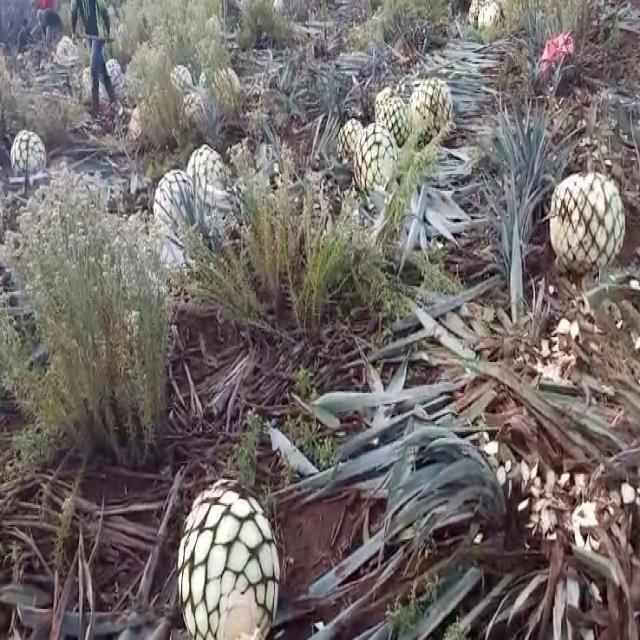agave: (172, 466, 284, 640), (545, 160, 628, 266), (352, 120, 398, 198), (148, 160, 190, 236), (406, 79, 455, 137), (372, 76, 408, 140), (8, 127, 47, 180), (185, 144, 222, 198), (334, 116, 366, 157), (168, 63, 190, 93), (476, 0, 495, 31), (0, 183, 7, 255), (478, 1, 489, 28), (471, 0, 484, 17)
